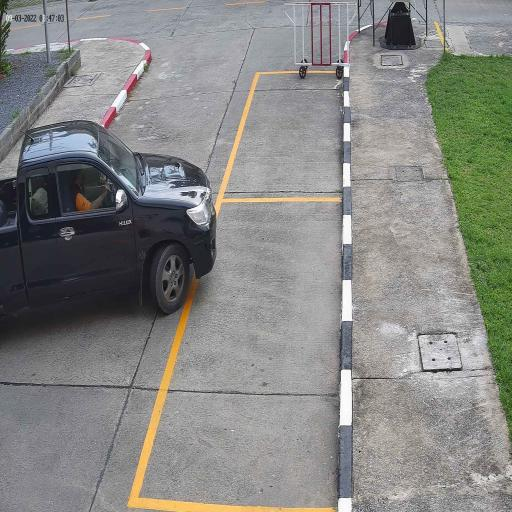car: (0, 118, 218, 320)
